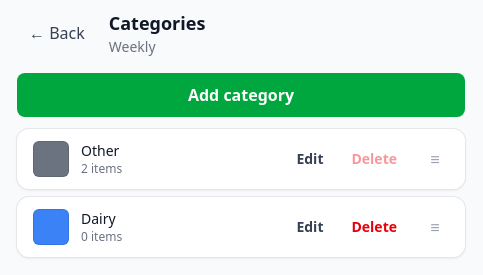
CategoriesPage (docs/TASKS.md → T19) › deletes an empty category after confirmation; delete is disabled while items are assigned
Expected: the button with aria-label "Delete Other" is disabled, [340,137,409,181]
Click the button with aria-label "Delete Dairy": [374, 227] box [340,205,409,249]
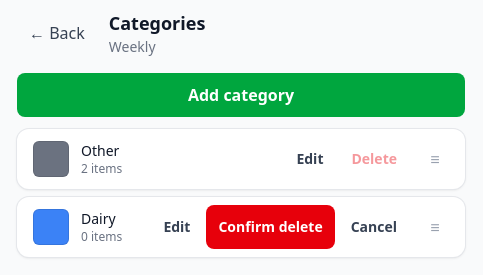
Click the button with aria-label "Confirm delete Dairy": [271, 227] box [206,205,335,249]
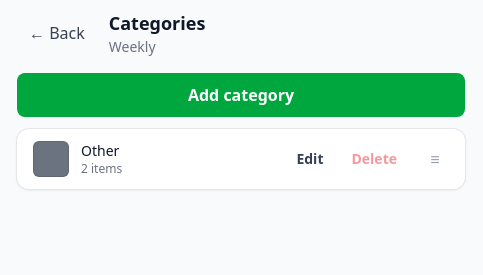
Expected: the list item with test id "category-row-c1" is shown, [17,129,465,189]
Expected: the list item with test id "category-row-c2" is gone
